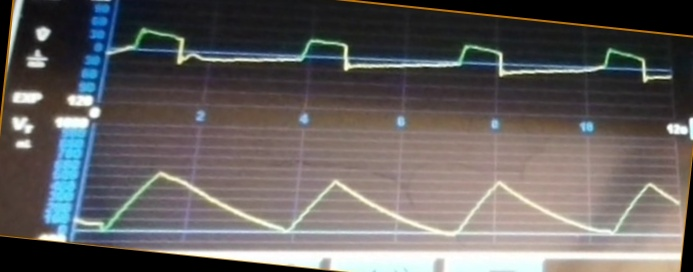Premature_cycling Flow: (108, 23, 671, 103)
Premature_cycling Volume: (79, 169, 678, 246)
